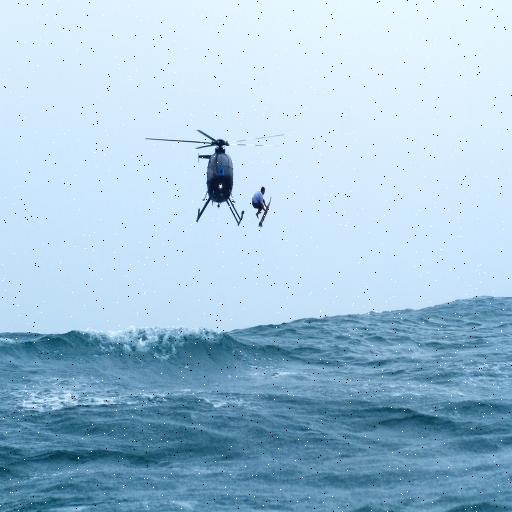helicopter: (145, 118, 290, 238)
